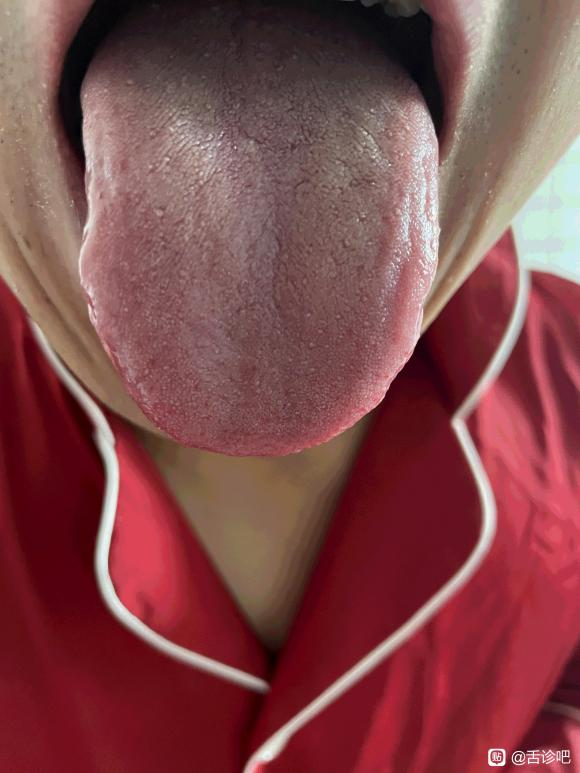baitaishe: (80, 1, 441, 456)
hongshe: (80, 1, 441, 456)
